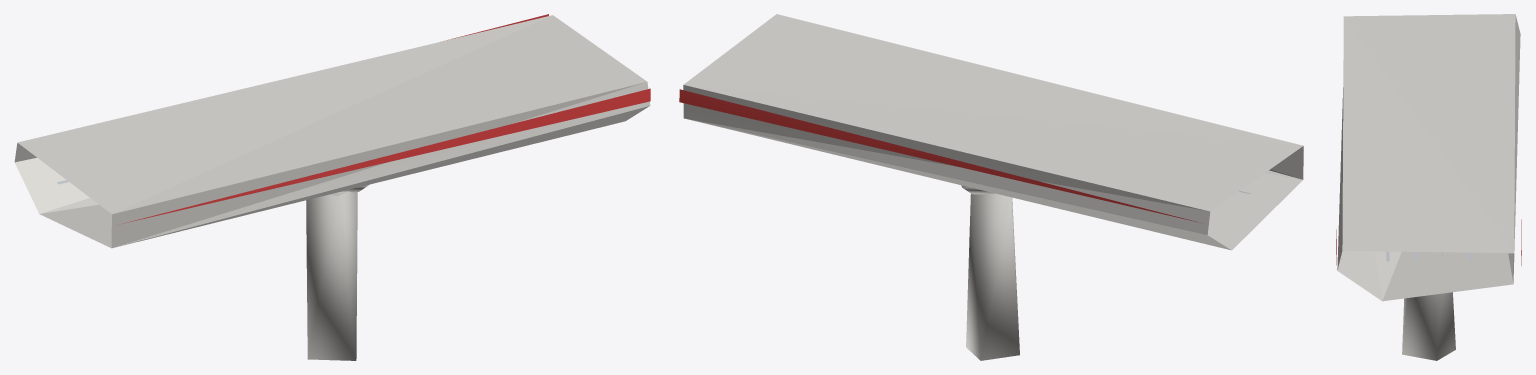
The model's file is viaduct_segment_lod1.glb.
3 views of the same model, side by side, from view 1: azimuth 30°, elevation 25°; view 2: azimuth 150°, elevation 25°; view 3: azimuth 270°, elevation 25° (orthographic). The views are drawn at different scales.
Visible parts, largest first — view 1: viaduct_segment_lod1; view 2: viaduct_segment_lod1; view 3: viaduct_segment_lod1.
Part boxes in pixels (x1,y1,x2,y2): viaduct_segment_lod1: (14, 14, 650, 360); viaduct_segment_lod1: (679, 14, 1303, 360); viaduct_segment_lod1: (1336, 14, 1521, 360).
Bounding box in the file's own units: 30 × 12.87 × 9.9.
